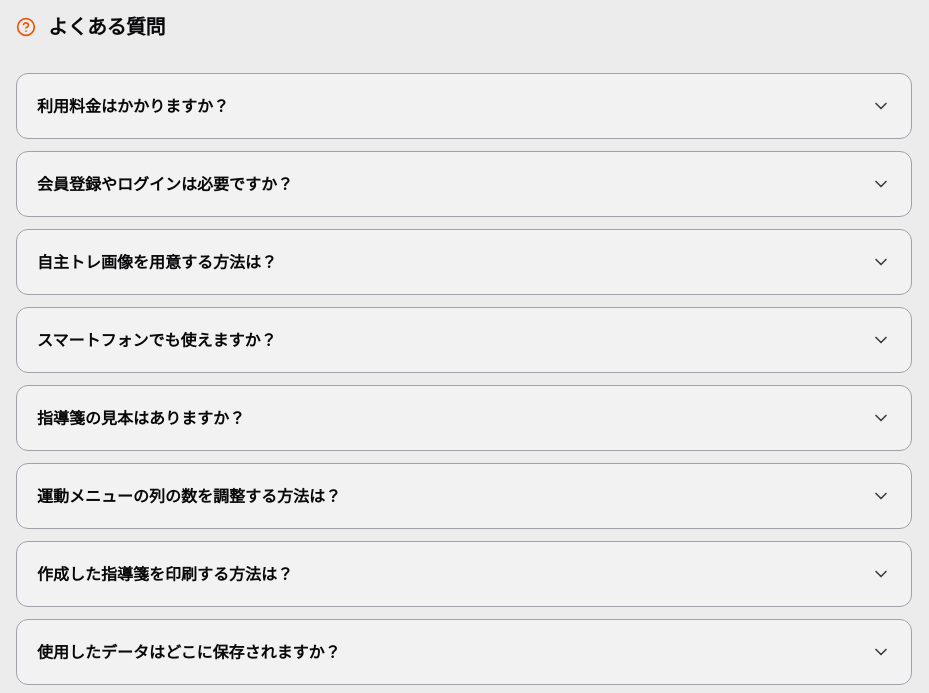
Test: FAQ › アコーディオン動作 › 開いている項目を再度クリックすると閉じる
Click the button "利用料金はかかりますか？" at (133, 106), box [17,74,911,138]
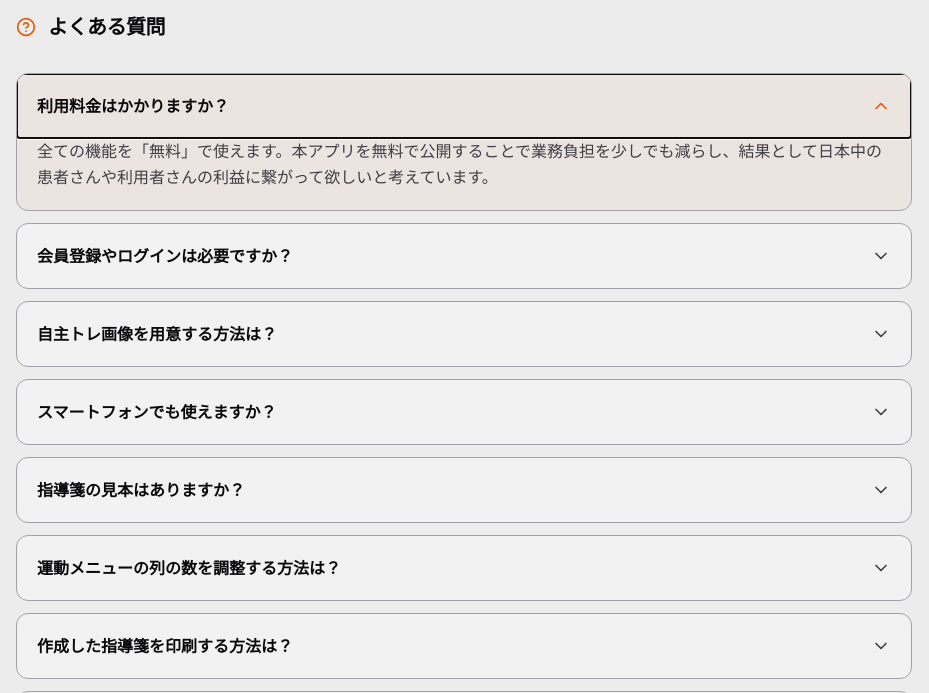
Expected: the button "利用料金はかかりますか？" is expanded
Click the button "利用料金はかかりますか？" at (133, 106), box [17,74,911,138]
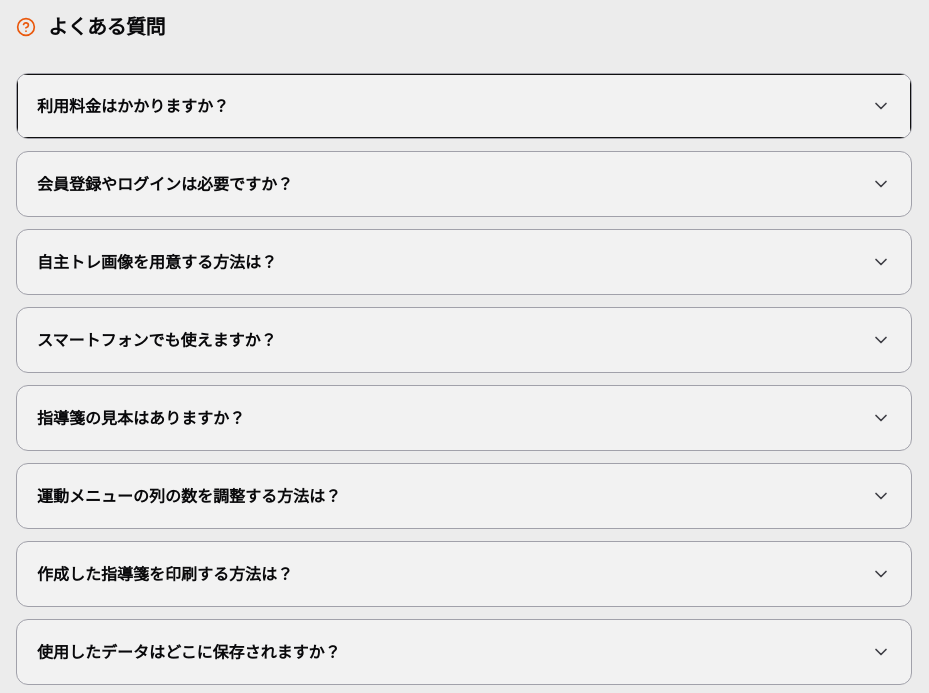
Expected: the button "利用料金はかかりますか？" is collapsed, [17,74,911,138]
